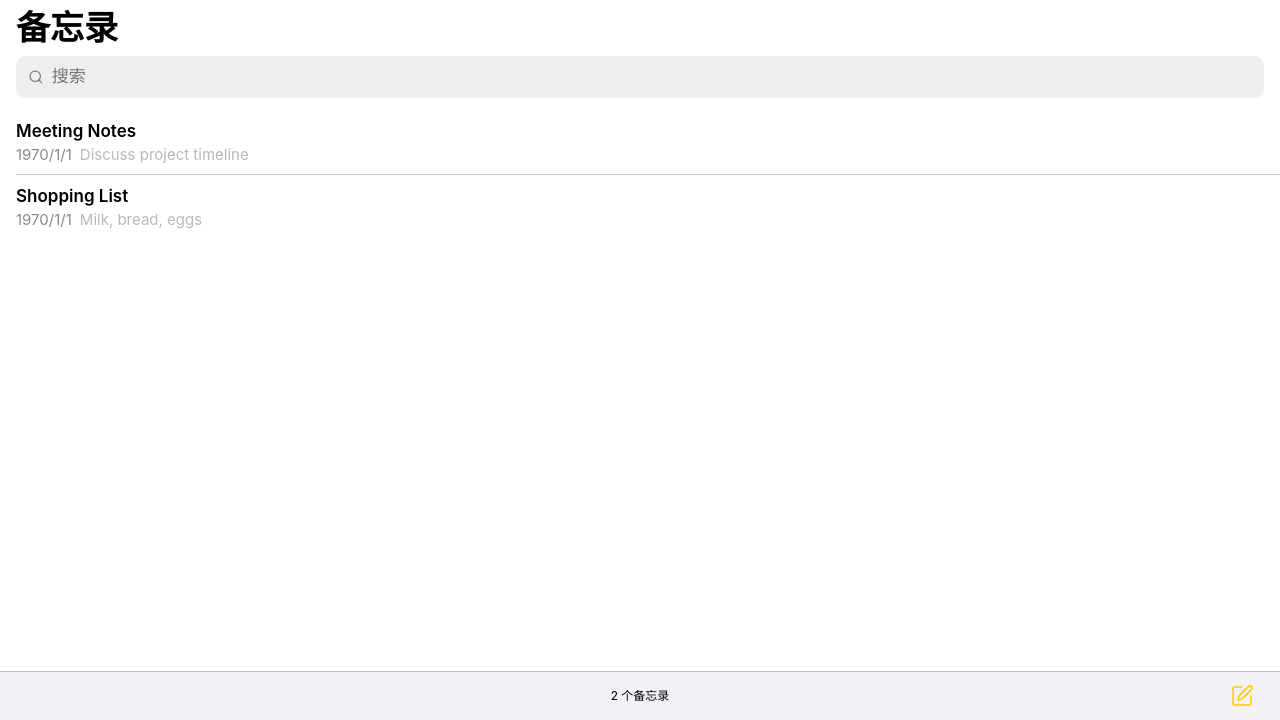
NotesApp › filters notes via search
In the field with test id "notes-search": (652, 77) [52, 64, 1252, 90], type "Meeting"
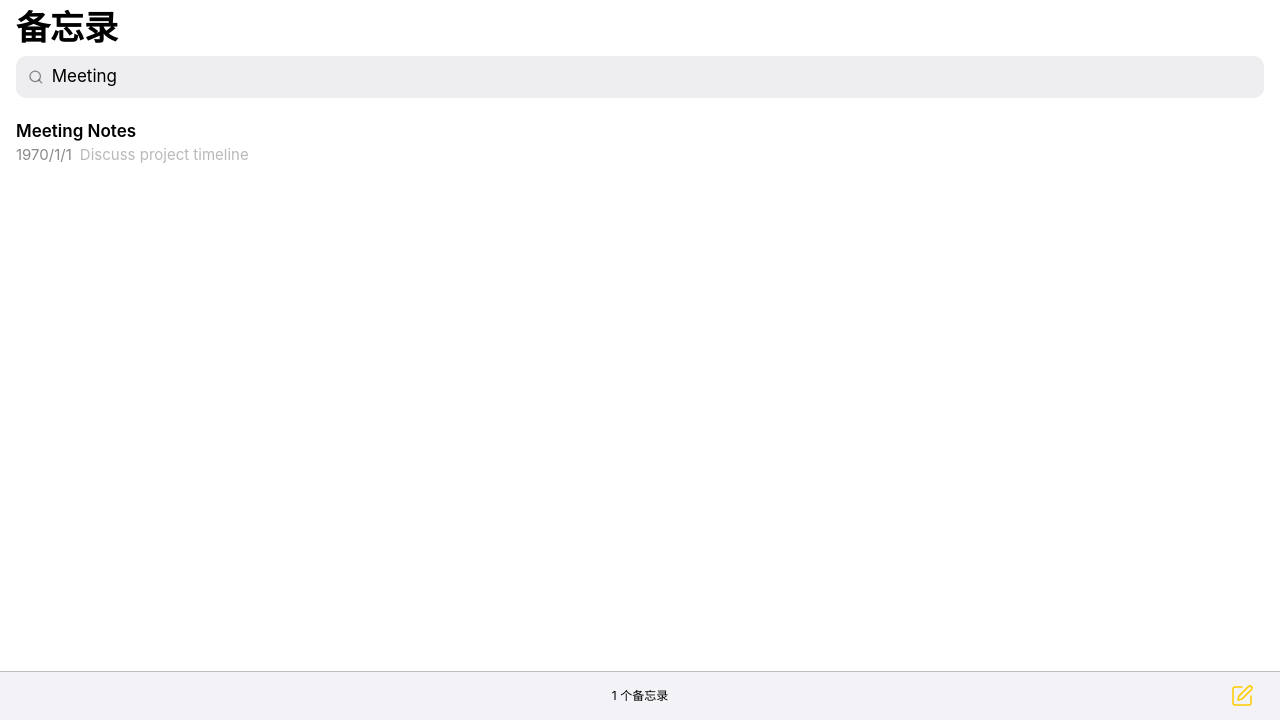
Expected: the text "Meeting Notes" is shown, [16, 120, 136, 140]
Expected: the text "Shopping List" is gone
